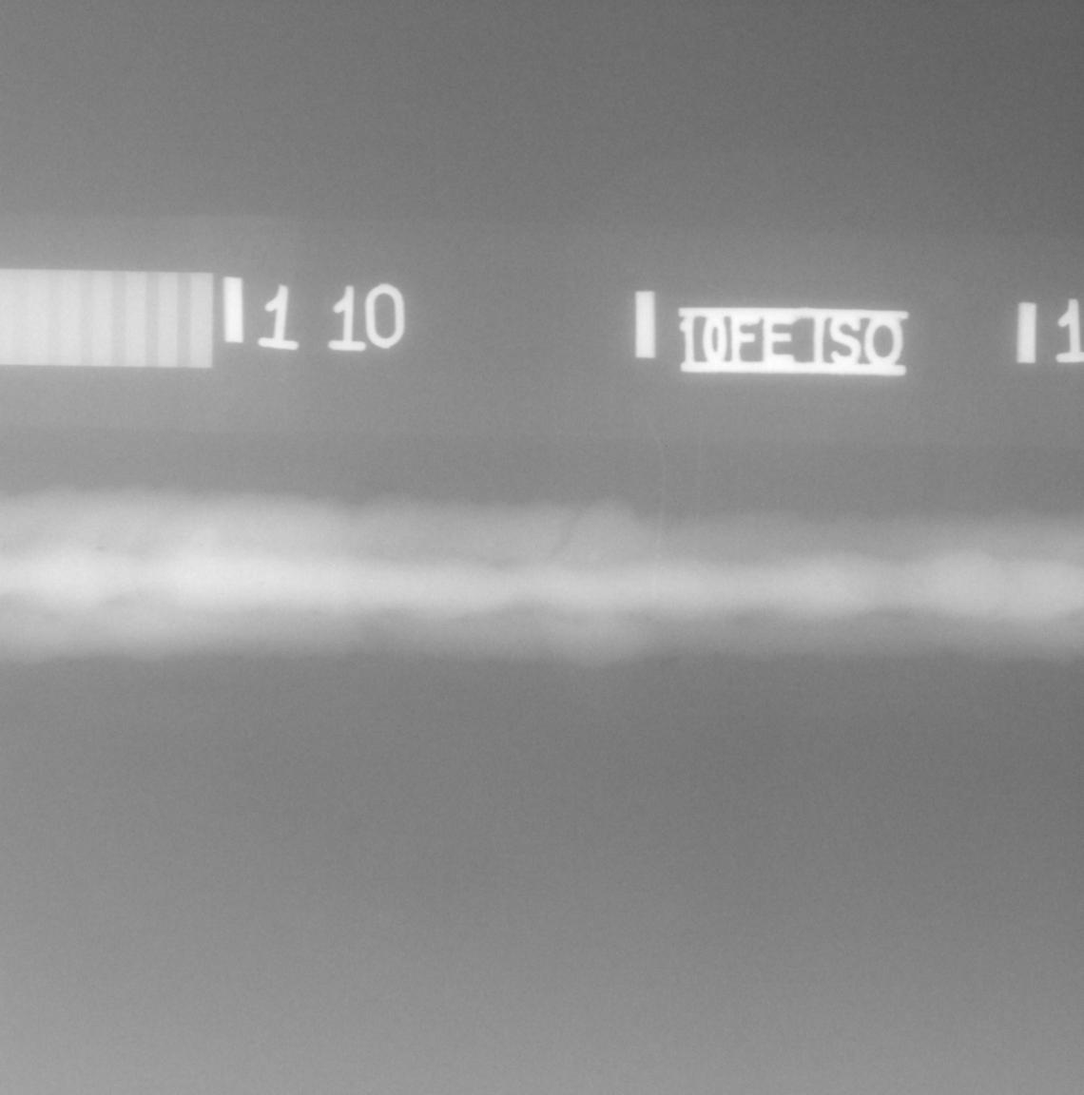Pore/Porosity: (96, 547, 103, 552), (646, 617, 652, 622)
